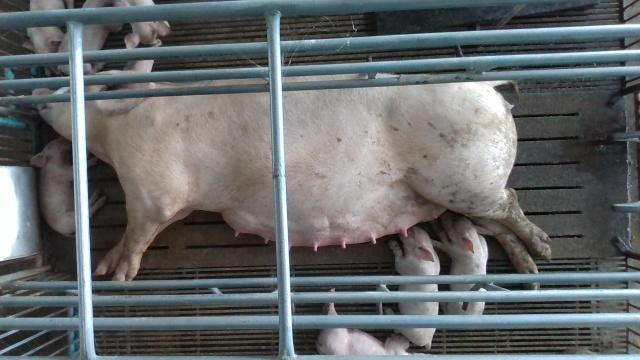piglet: (315, 286, 423, 356), (32, 136, 106, 238), (385, 225, 441, 350), (435, 213, 492, 315), (58, 0, 124, 73), (24, 0, 75, 75), (113, 0, 172, 48)
sow-sleep-lactate: (32, 59, 552, 290)
